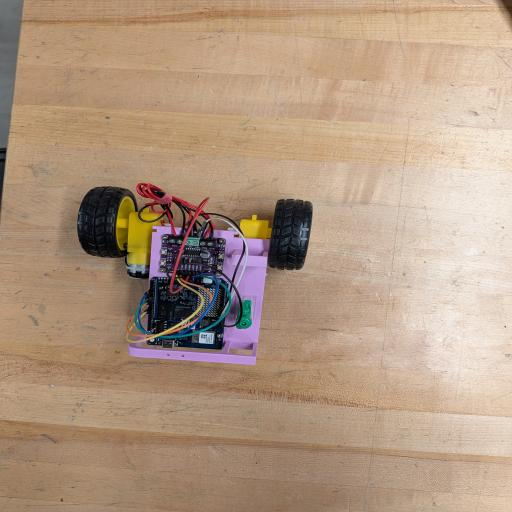Minifig: (236, 300, 252, 329)
